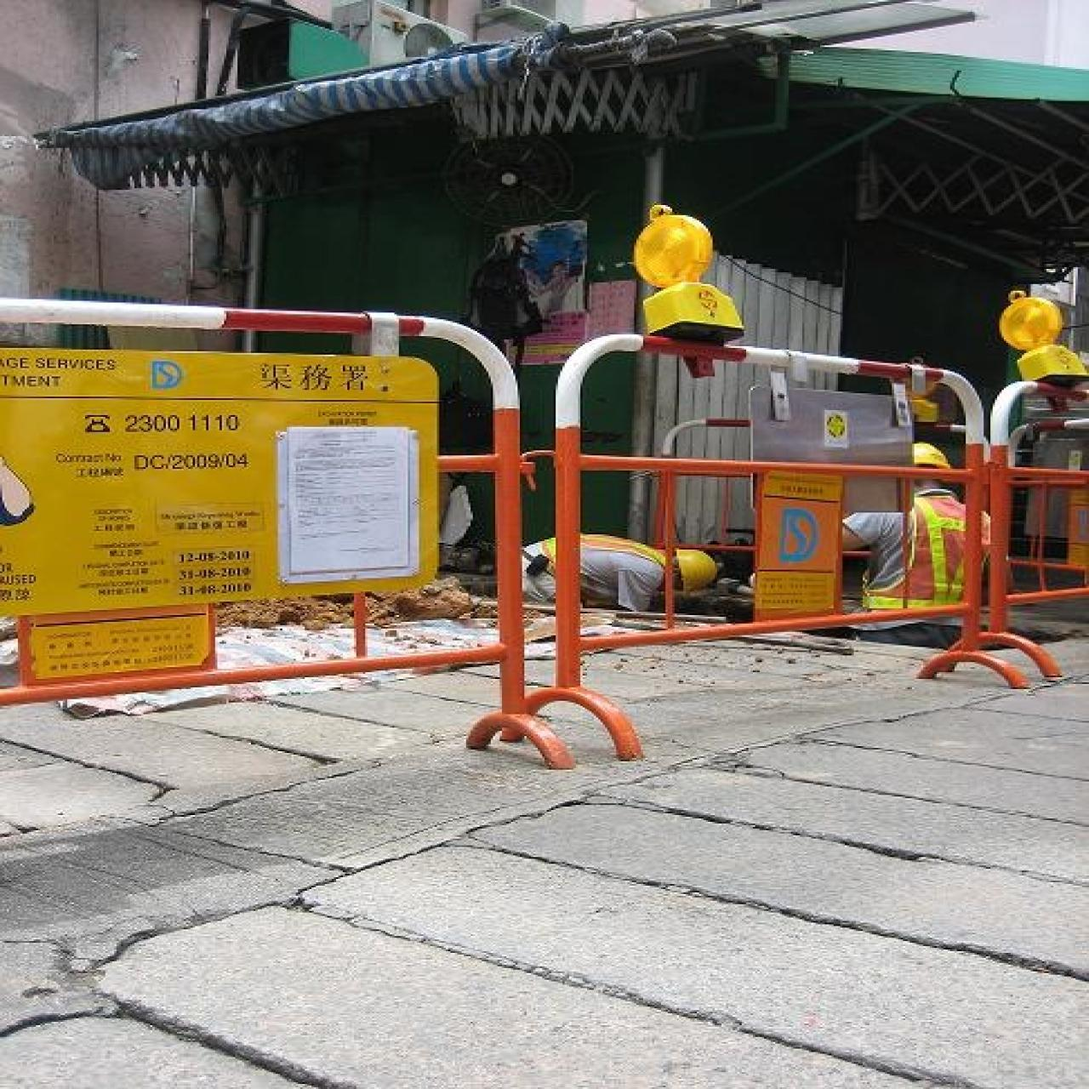Person: (840, 428, 998, 611), (473, 521, 725, 628)
Safety_Vest: (871, 488, 985, 608), (542, 532, 666, 590)
